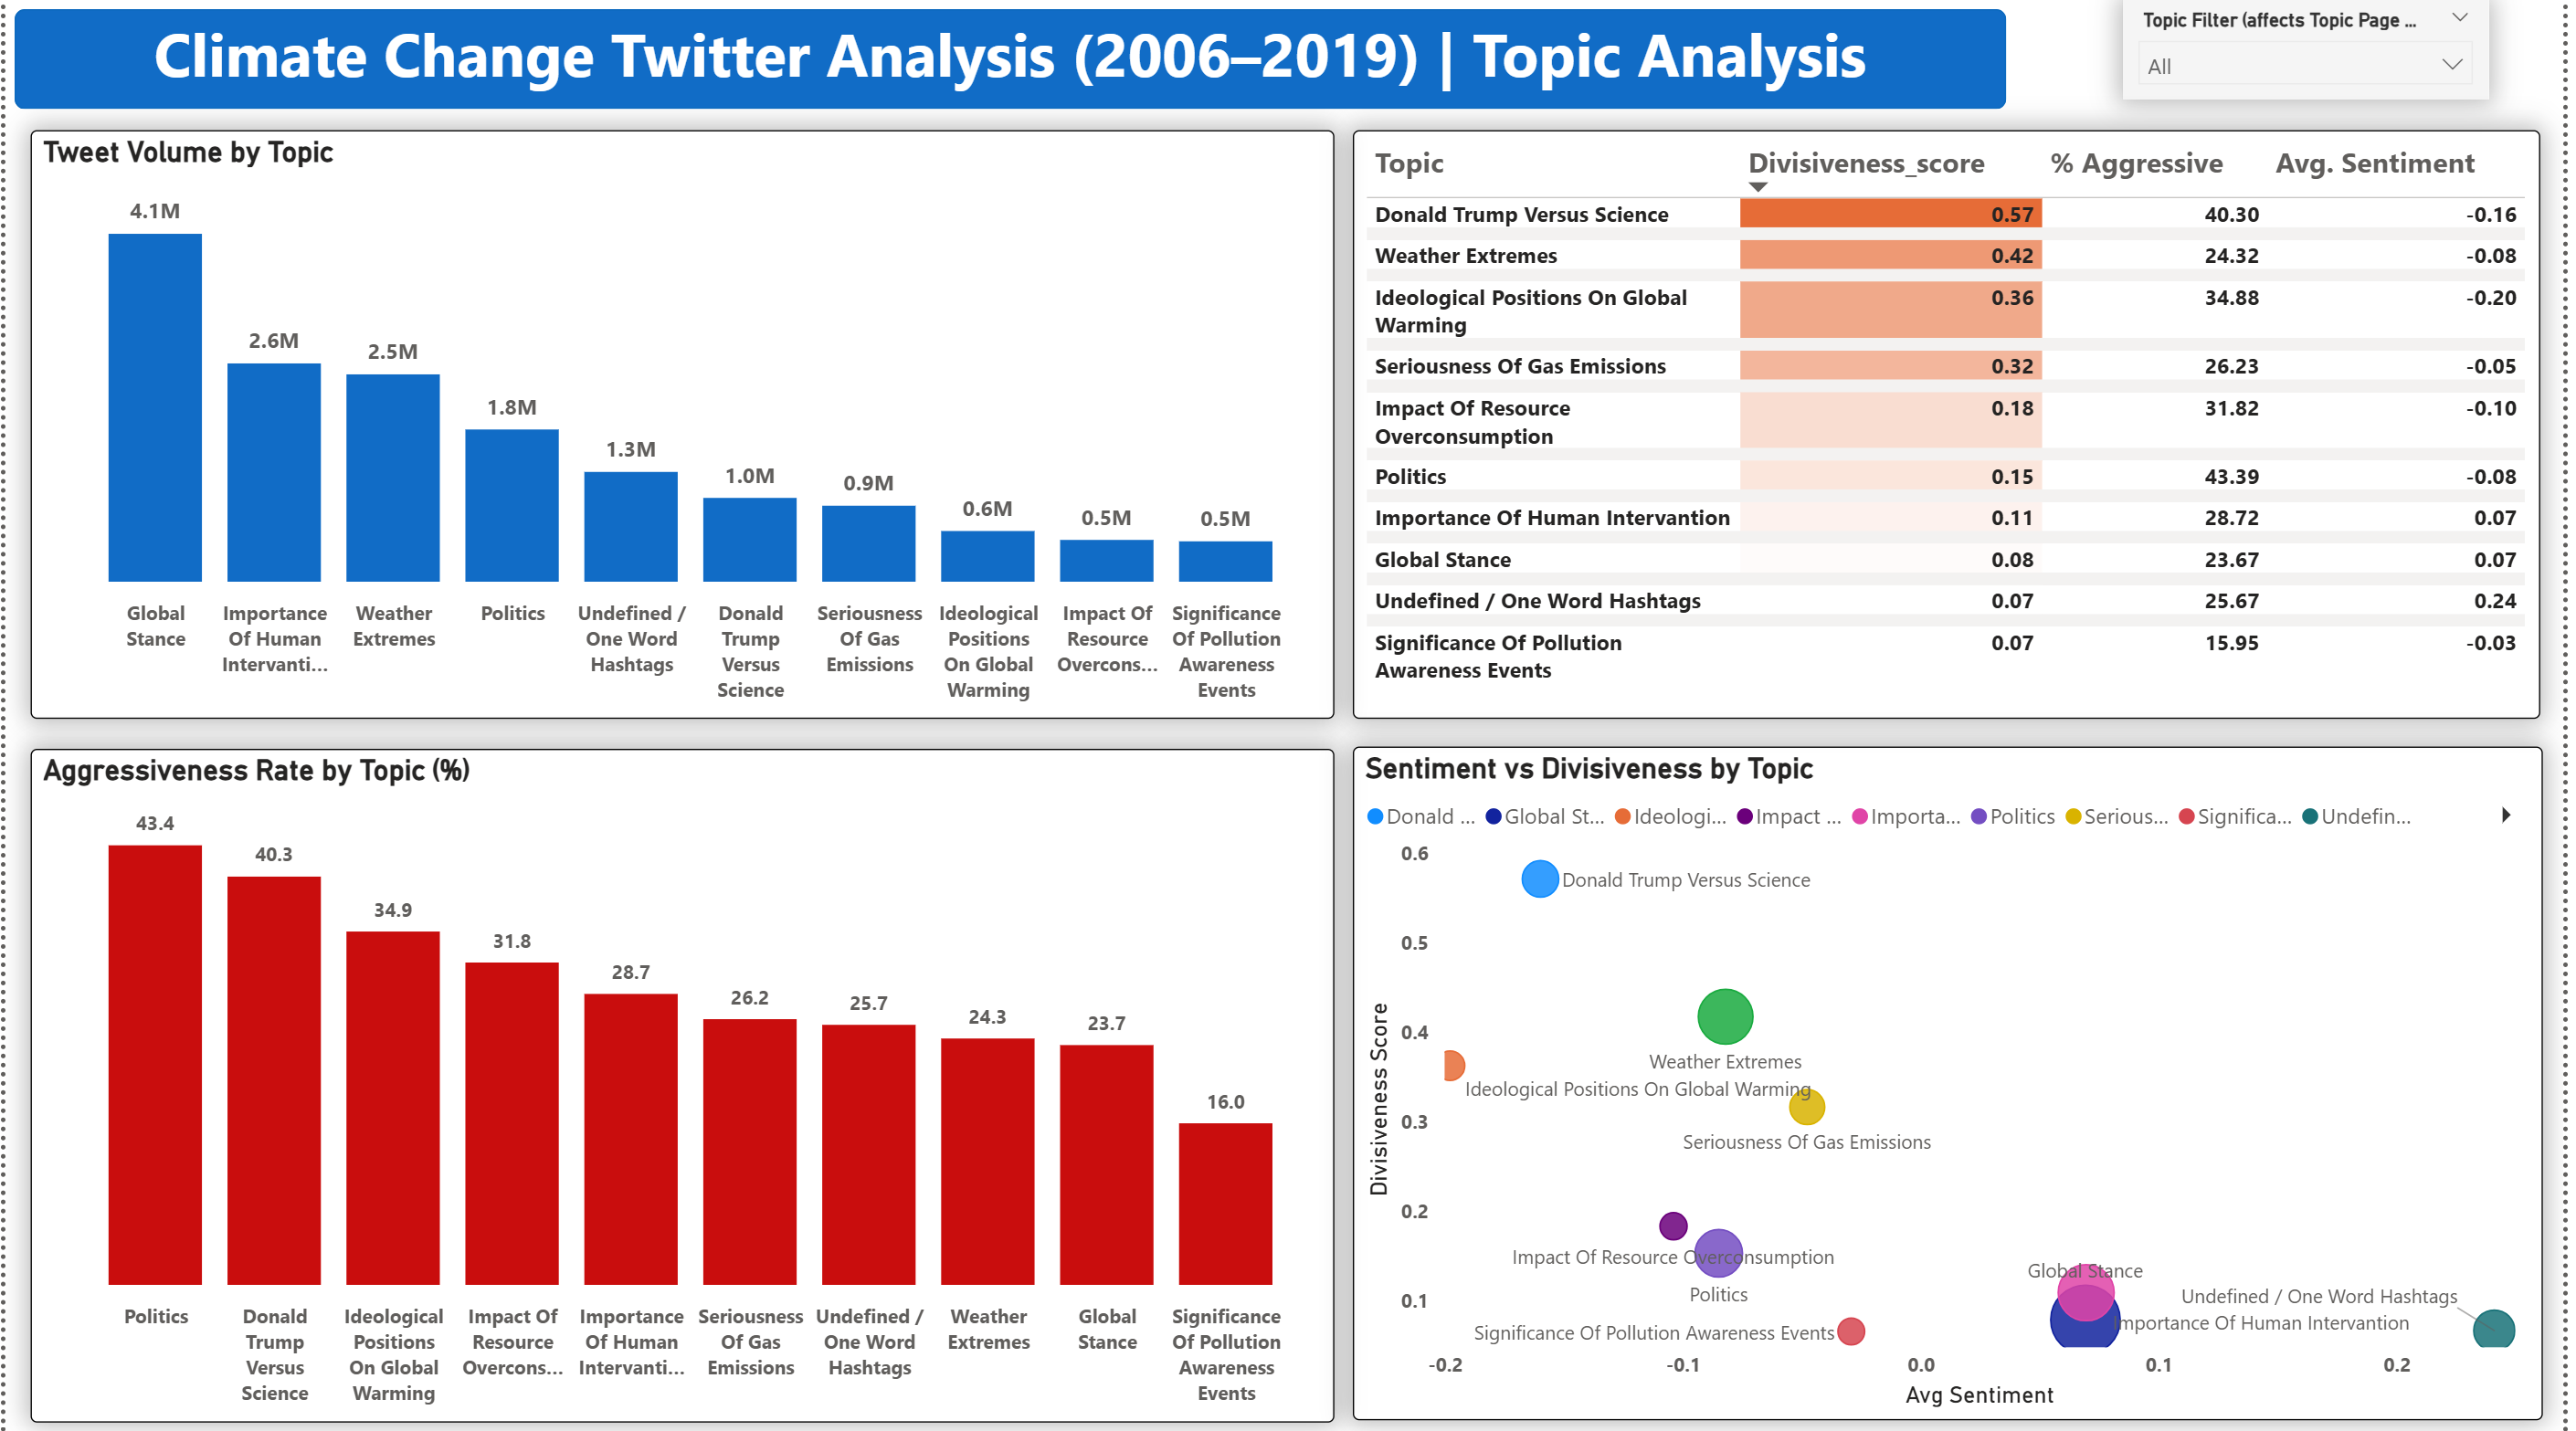

This screenshot's page, from the dashboard's own definition file:
{"tool":"powerbi","page":{"name":"Topic Analysis","canvas":[1600,900],"ordinal":1},"visuals":[{"type":"tableEx","title":"Diversiveness Score by Topic","fields":{"Values":["public vw_topic_analysis.topic","Sum(public vw_topic_analysis.divisiveness_score)","Sum(public vw_topic_analysis.pct_aggressive)","Sum(public vw_topic_analysis.avg_sentiment)"]},"box":[842.9,81.4,742.9,368.6],"z":0},{"type":"clusteredColumnChart","title":"Tweet Volume by Topic","fields":{"Category":["public vw_topic_analysis.topic"],"Y":["Sum(public vw_topic_analysis.total_tweets)"]},"box":[15.7,81.4,815.7,368.6],"z":1000},{"type":"slicer","fields":{"Values":["public vw_topic_analysis.topic"]},"box":[1325,0,229.2,62.5],"z":2000},{"type":"shape","box":[6.2,6.2,1245.8,62.5],"z":3000},{"type":"clusteredColumnChart","title":"Aggressiveness Rate by Topic (%)","fields":{"Category":["public vw_topic_analysis.topic"],"Y":["Sum(public vw_topic_analysis.pct_aggressive)"]},"box":[15.7,468.6,815.7,421.4],"z":4000},{"type":"scatterChart","title":"Sentiment vs Divisiveness by Topic","fields":{"X":["Sum(public vw_topic_analysis.avg_sentiment)"],"Y":["Sum(public vw_topic_analysis.divisiveness_score)"],"Size":["Sum(public vw_topic_analysis.total_tweets)"],"Category":["public vw_topic_analysis.topic"],"Series":["public vw_topic_analysis.topic"]},"box":[842.9,467.1,744.3,421.4],"z":5000}]}

Visuals, with their boxes in screenshot pixels (x1, y1, x2, y2), scaled from the page's 1600x900 canvas onto the 2576x1431 screenshot:
"Diversiveness Score by Topic" tableEx: crop(1357, 130, 2553, 716)
"Tweet Volume by Topic" clusteredColumnChart: crop(26, 130, 1338, 716)
slicer - public vw_topic_analysis.topic: crop(2133, 0, 2502, 100)
shape: crop(10, 10, 2016, 110)
"Aggressiveness Rate by Topic (%)" clusteredColumnChart: crop(26, 745, 1338, 1415)
"Sentiment vs Divisiveness by Topic" scatterChart: crop(1357, 742, 2555, 1413)
